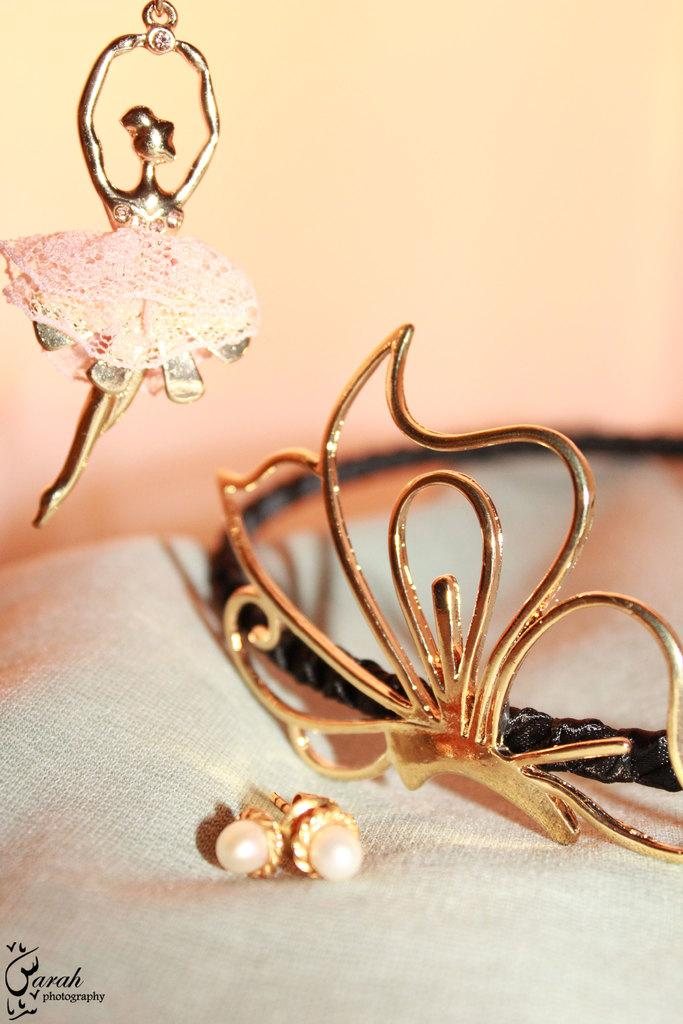earrings: (262, 783, 364, 880), (208, 798, 287, 880)
